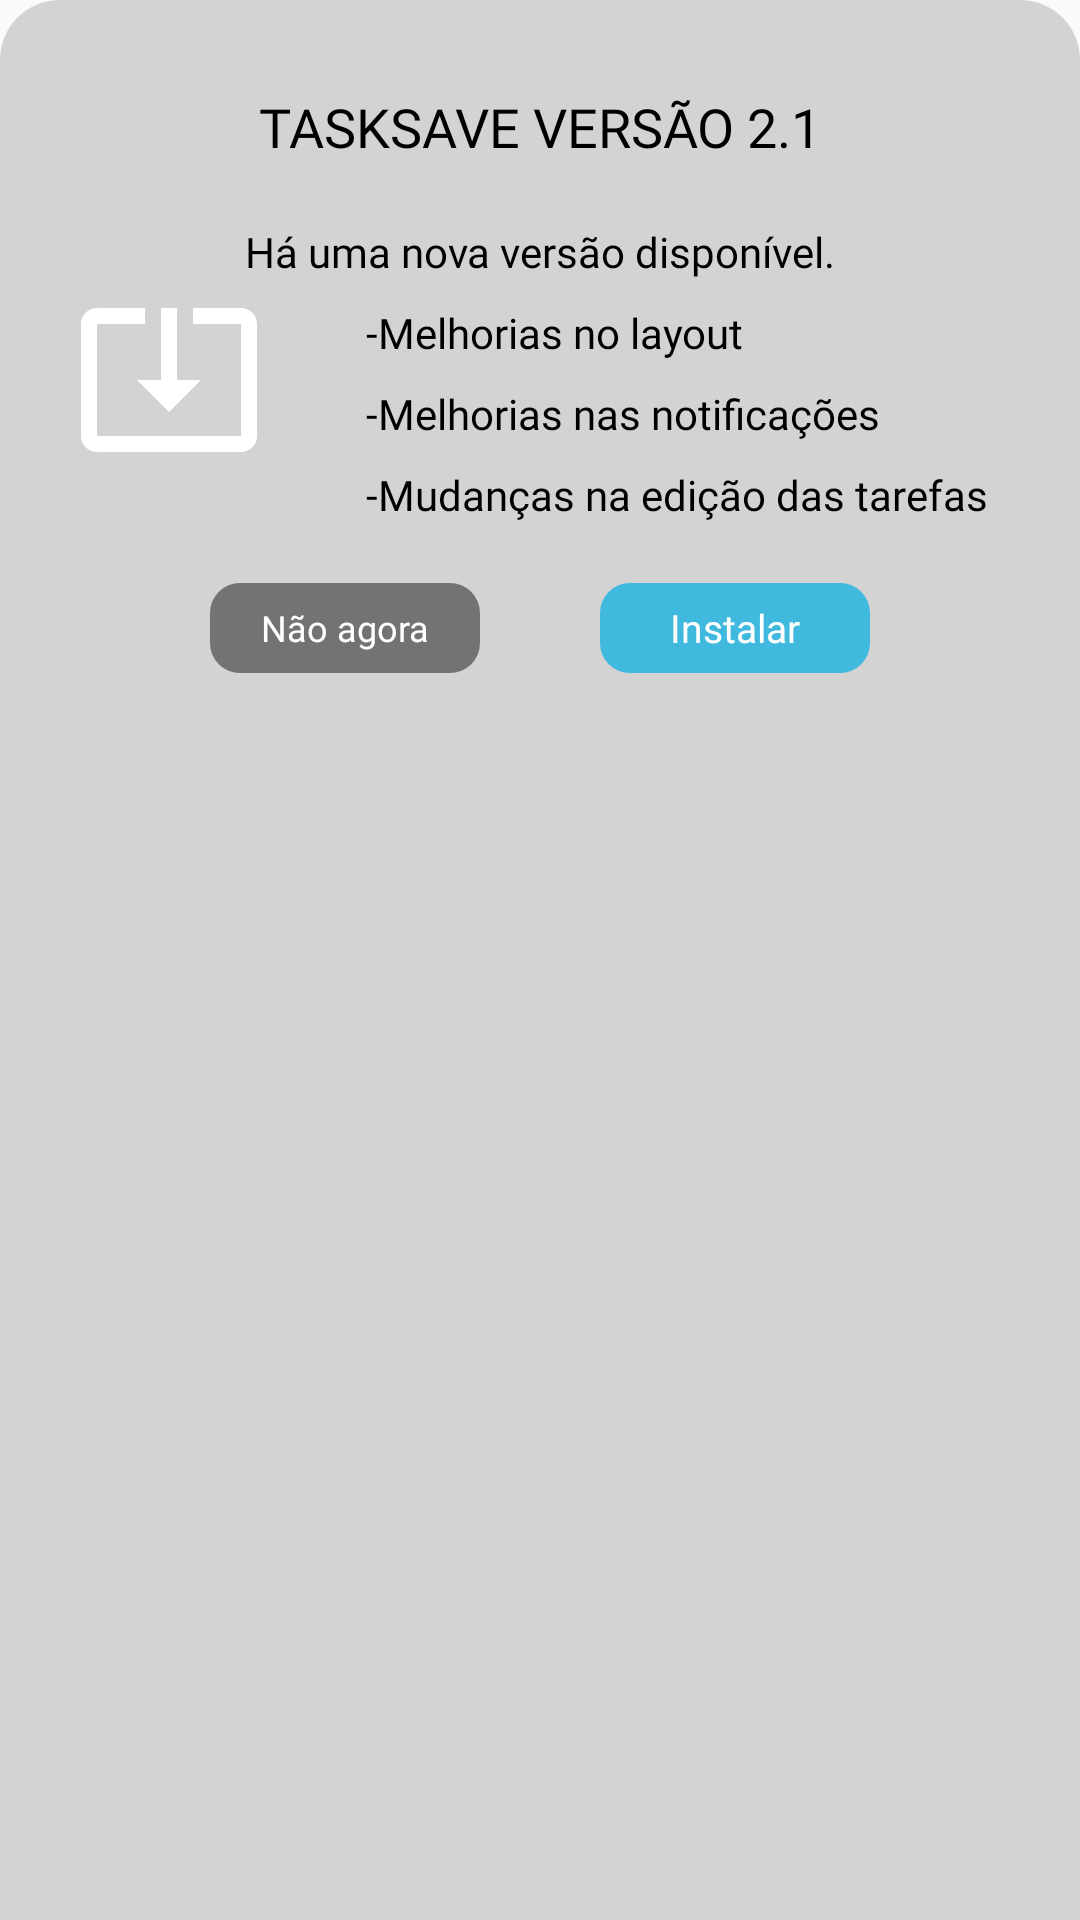

Screen size 1080px x 1920px. Icon name, then its center in pixels as (x=x, y=y):
system update: (x=169, y=380)
